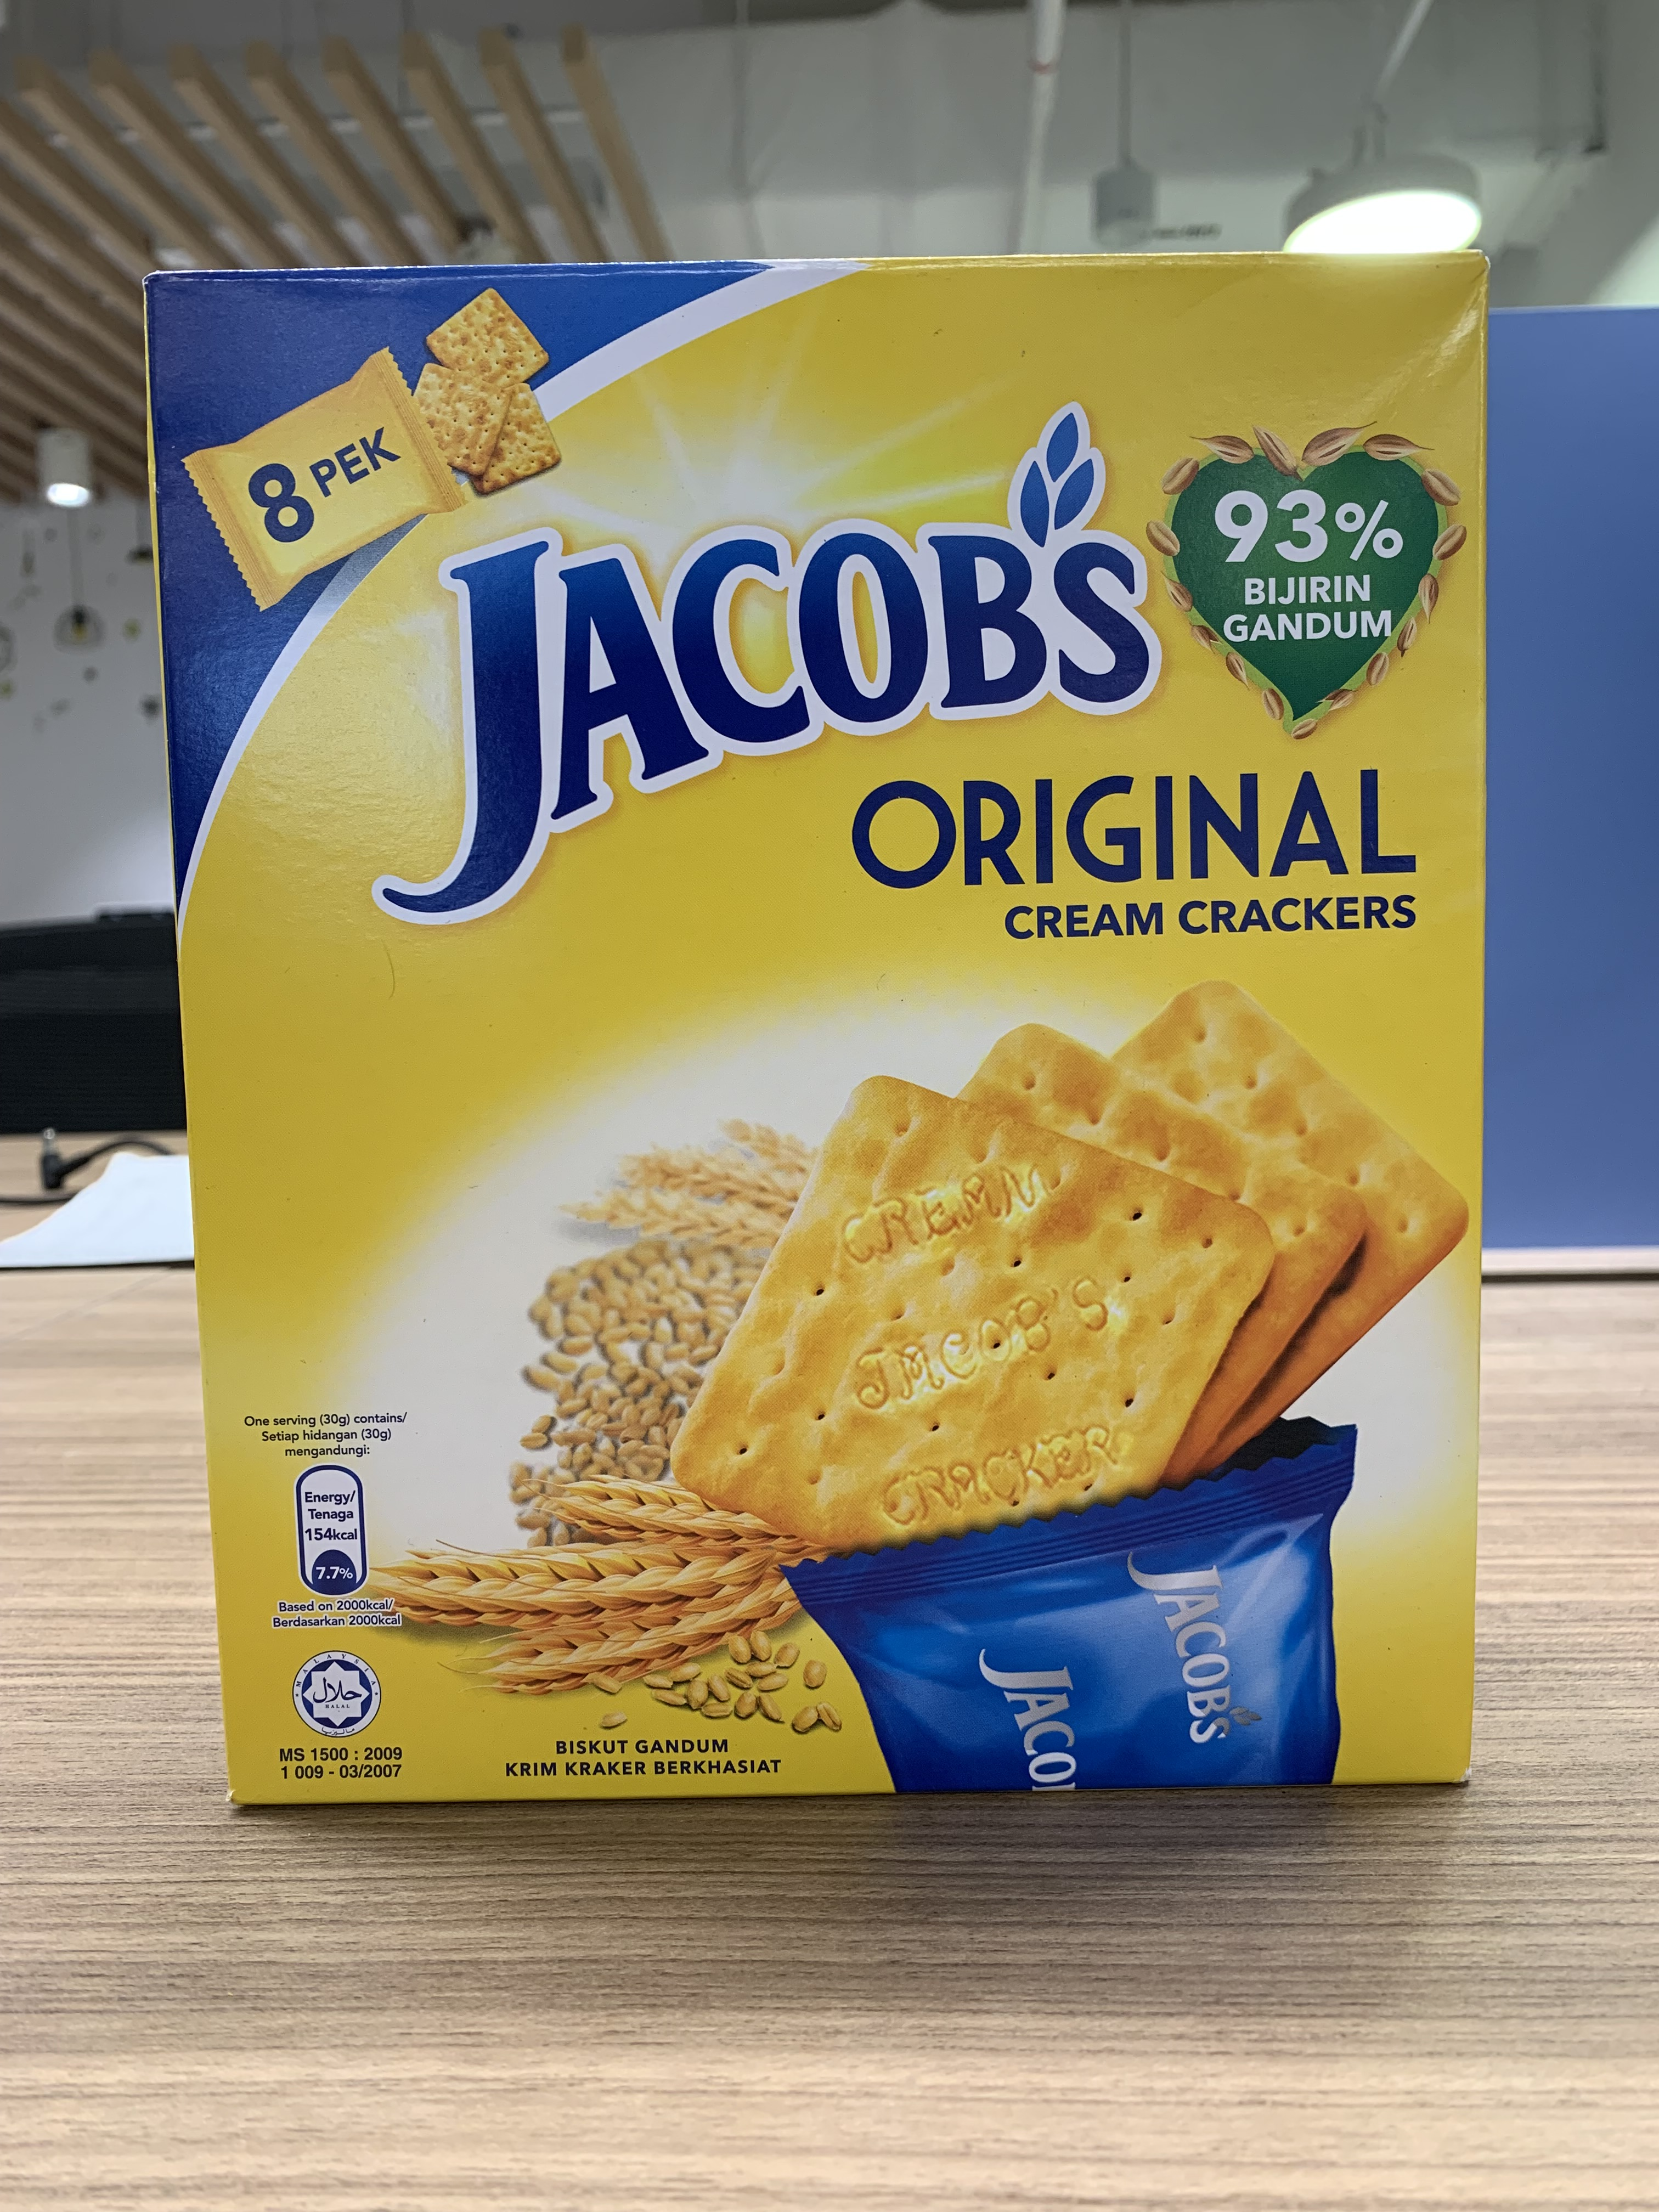halal: (291, 1651, 380, 1737)
